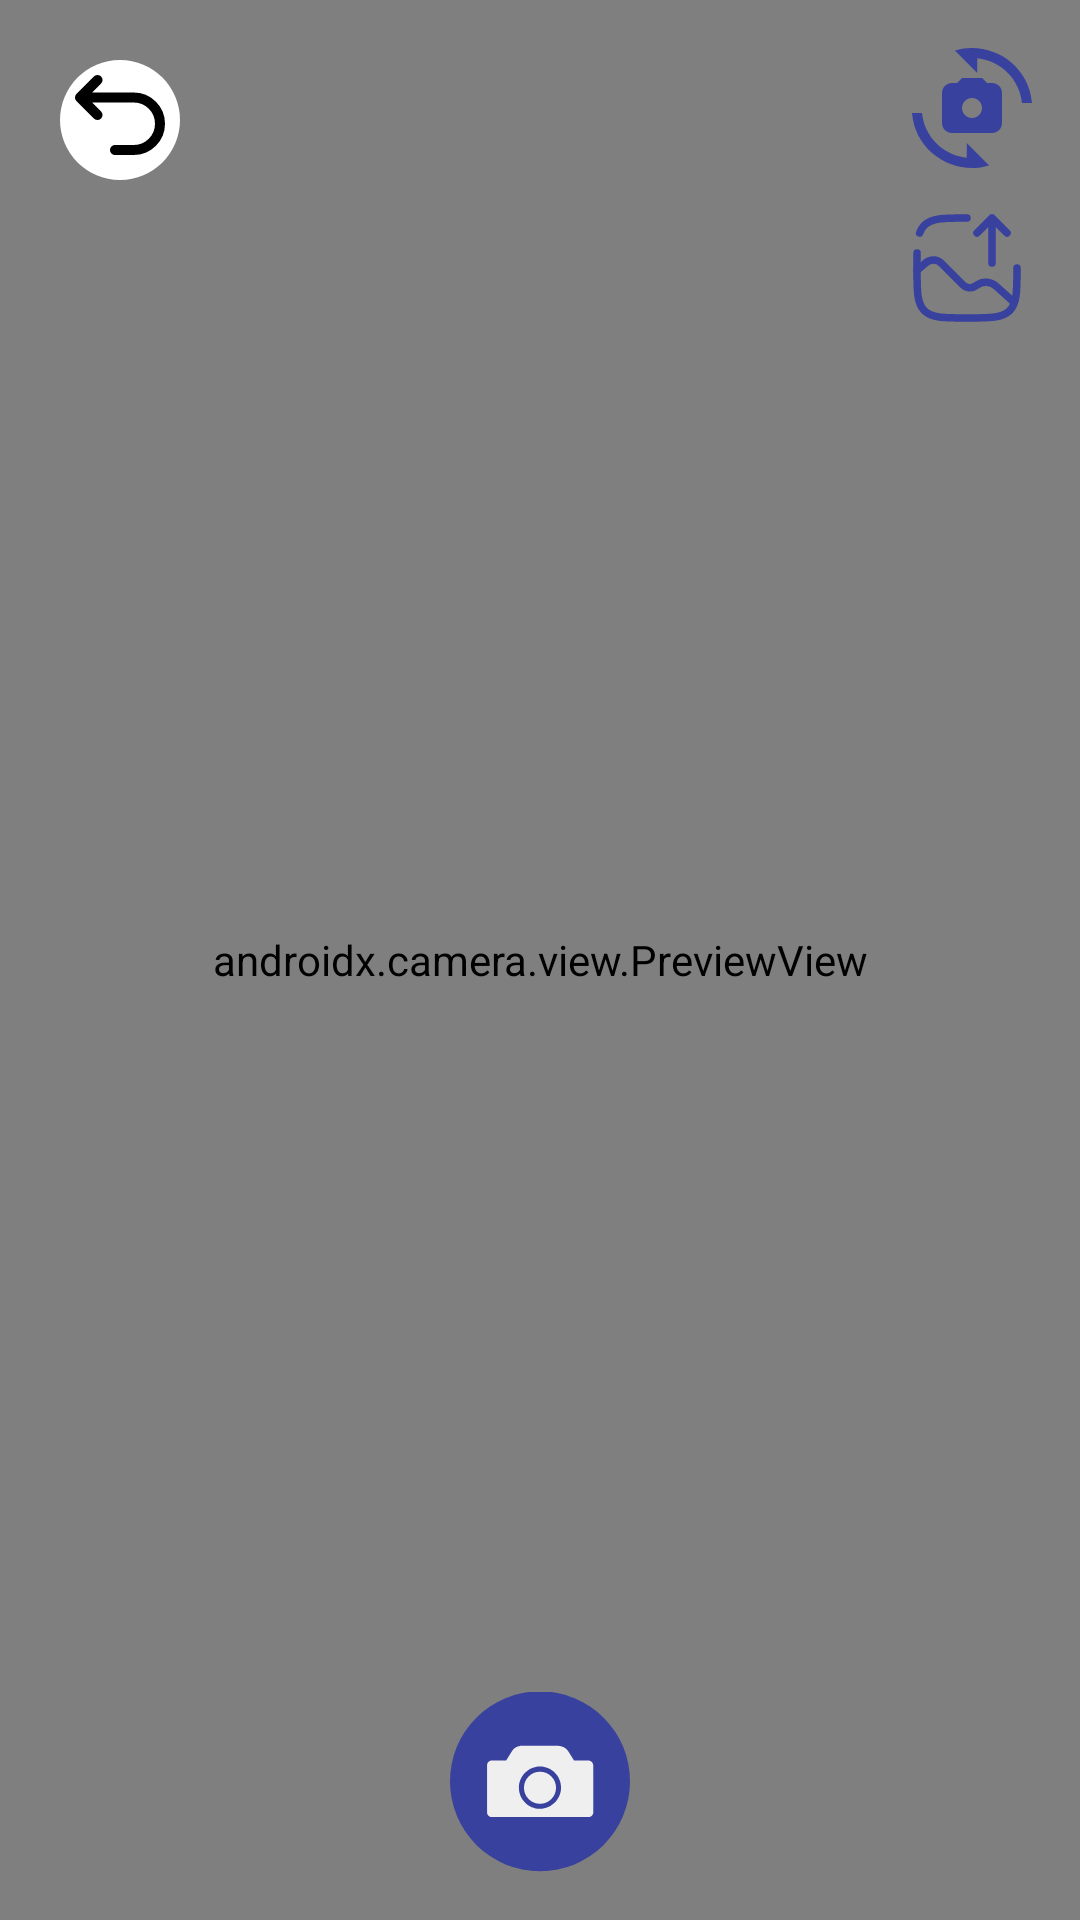

Icons on this 1080w x 1920h Android screen, each with its box as (x1, y1, x2, y2):
back: (60, 60, 180, 180)
capture: (450, 1692, 630, 1871)
galleryincamera: (913, 214, 1021, 322)
switch camera: (912, 48, 1032, 168)
